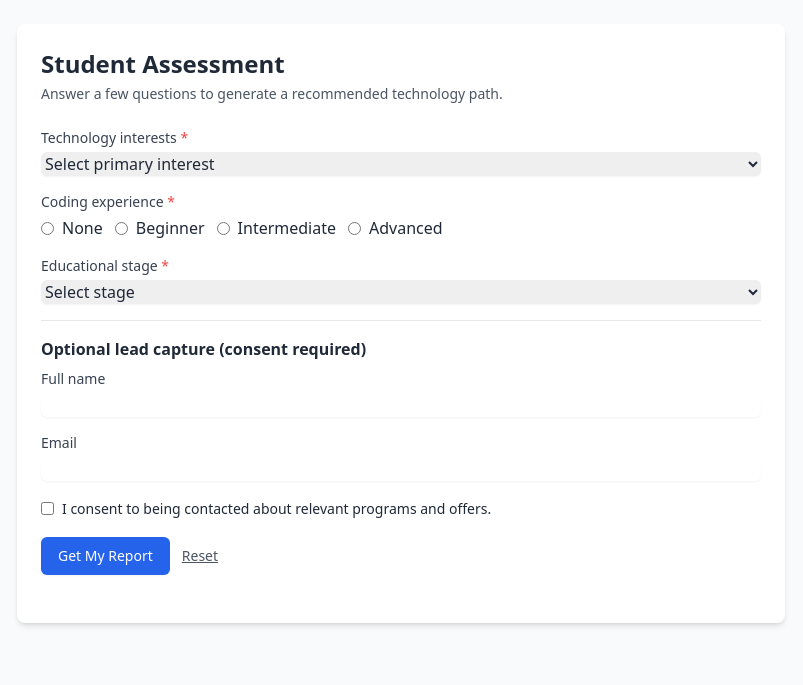
Scenario: Assessment page › submits assessment and renders the structured report
The width and height of the screenshot is (803, 685).
Select "Web Development" in the dropdown showing "Select primary interest" at (401, 164), box 41,152 -> 761,176
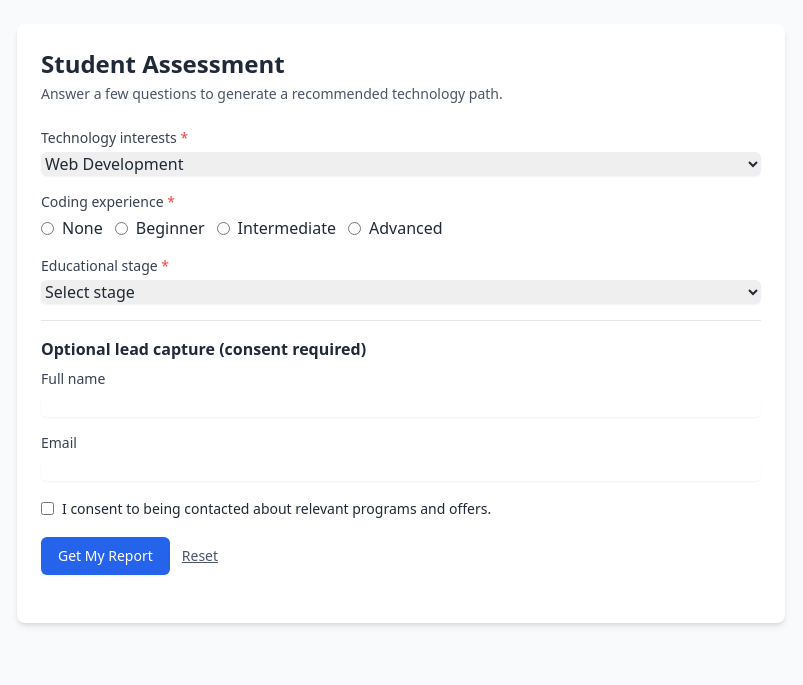
Click the radio button labelled "Beginner" at (121, 228), box 115,222 -> 128,234
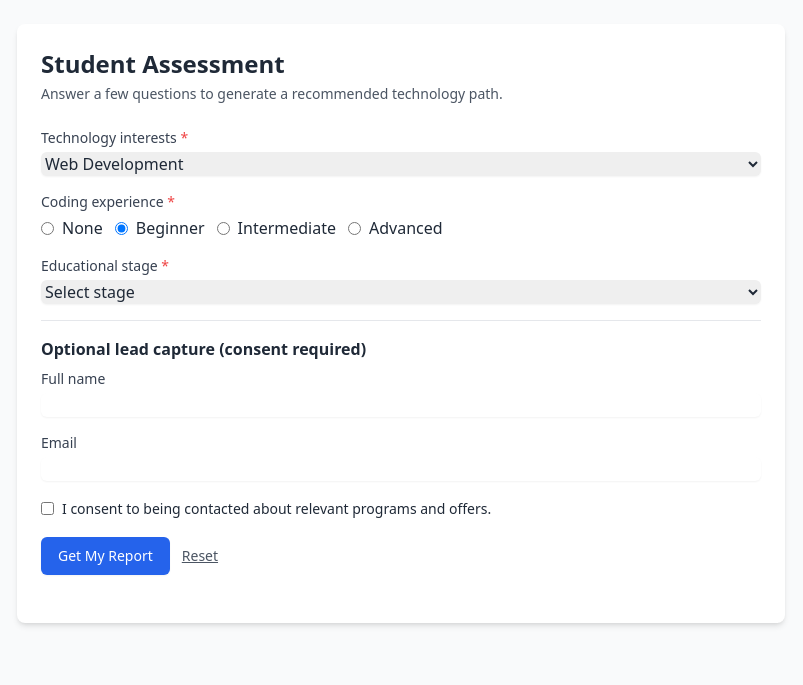
Select "Undergraduate" in the dropdown showing "Select stage" at (401, 292), box 41,280 -> 761,304
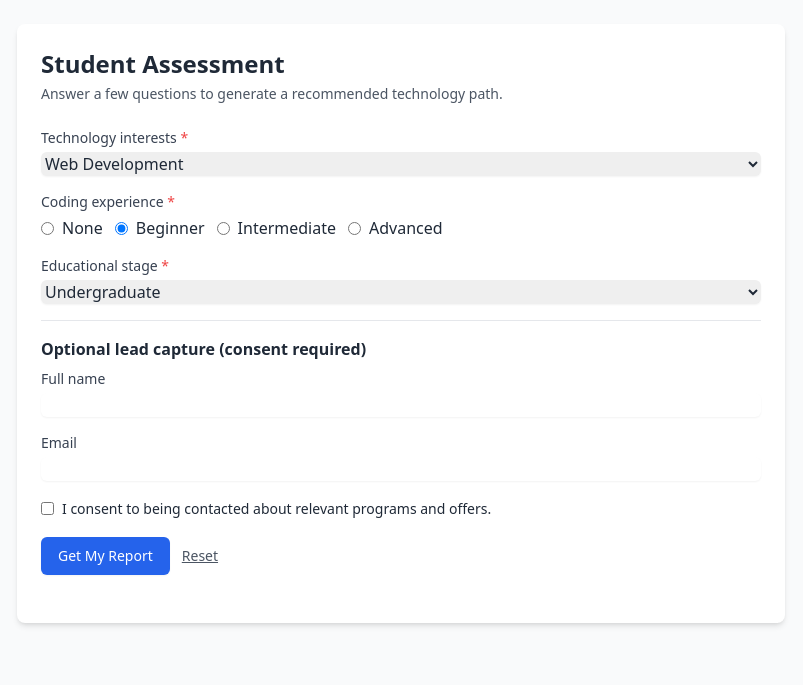
Click the button "Get My Report" at (105, 556), box 41,537 -> 170,575
(page scrolled)
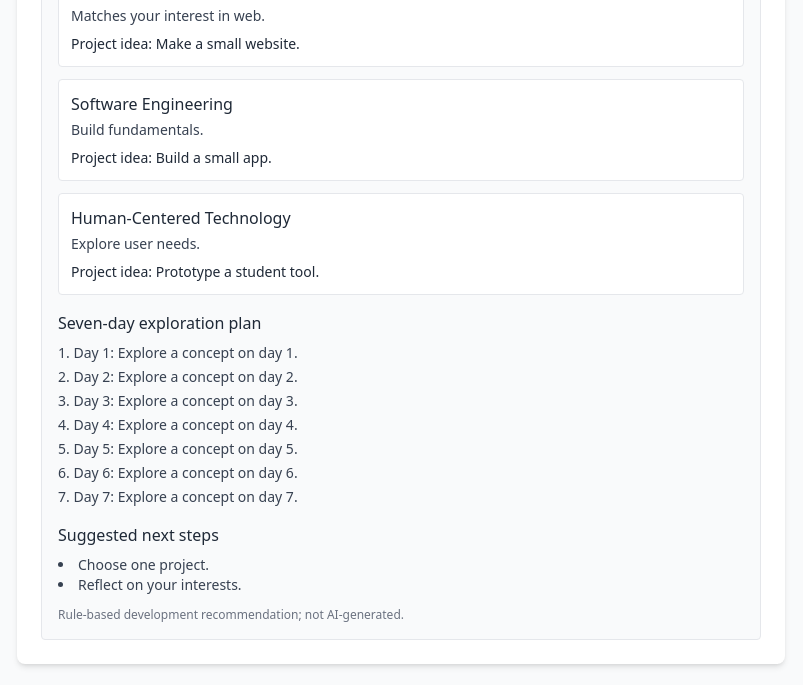
Check: the text "Day 7:" is shown, box 73,487 -> 114,506
Check: the text "Rule-based development recommendation; not AI-generated." is shown, box 58,606 -> 404,623
